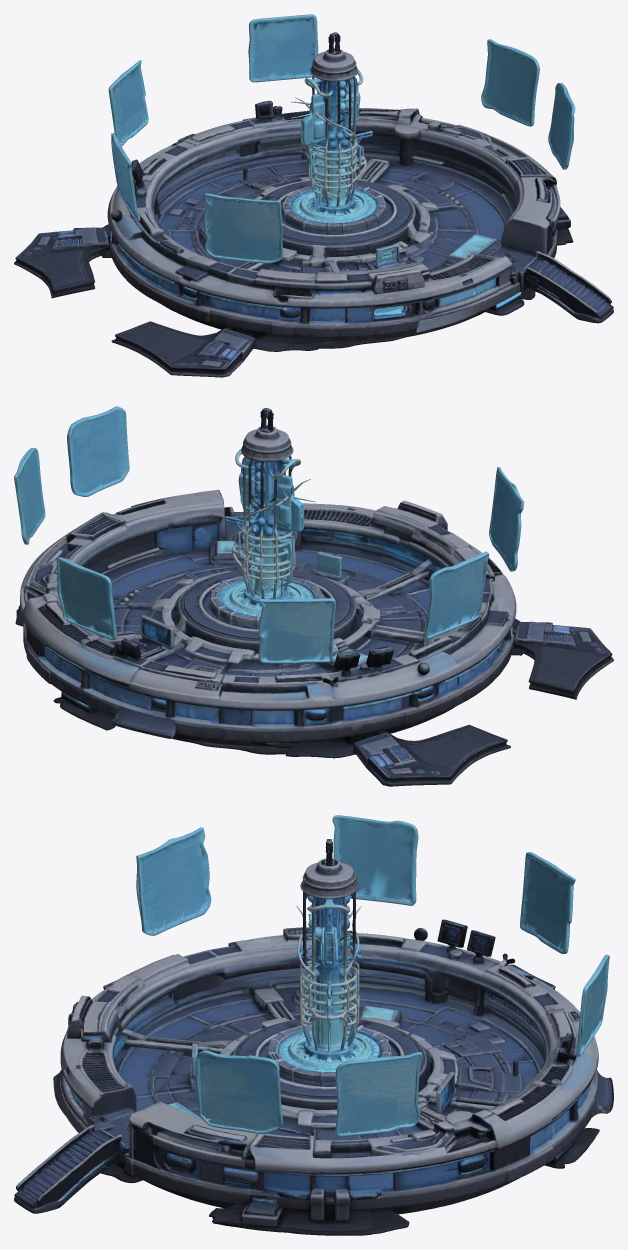
File: command-center.glb
3 renders of one model, top to bottom at view 1: azimuth 30°, elevation 25°; view 2: azimuth 150°, elevation 25°; view 3: azimuth 270°, elevation 25°, orthographic. The views are drawn at different scales.
Visible parts, largest first — view 1: tripo_node_beae6983-eb31-4e06-896f-8936ee2d320b; view 2: tripo_node_beae6983-eb31-4e06-896f-8936ee2d320b; view 3: tripo_node_beae6983-eb31-4e06-896f-8936ee2d320b.
Part boxes in pixels (x1,y1,x2,y2): tripo_node_beae6983-eb31-4e06-896f-8936ee2d320b: (14,14,613,377); tripo_node_beae6983-eb31-4e06-896f-8936ee2d320b: (14,406,613,786); tripo_node_beae6983-eb31-4e06-896f-8936ee2d320b: (14,815,613,1235).
Bounding box in the file's own units: 0.9799 × 0.4621 × 0.8983.
1 material, 1 textured.
